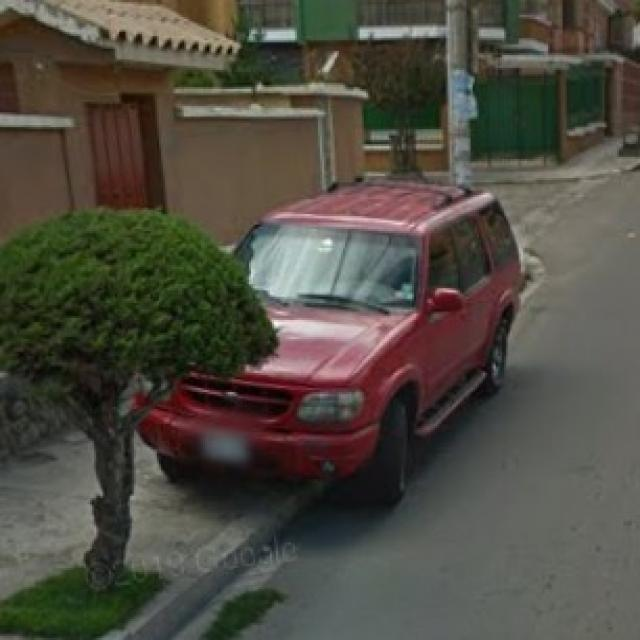cars: (162, 193, 526, 526)
